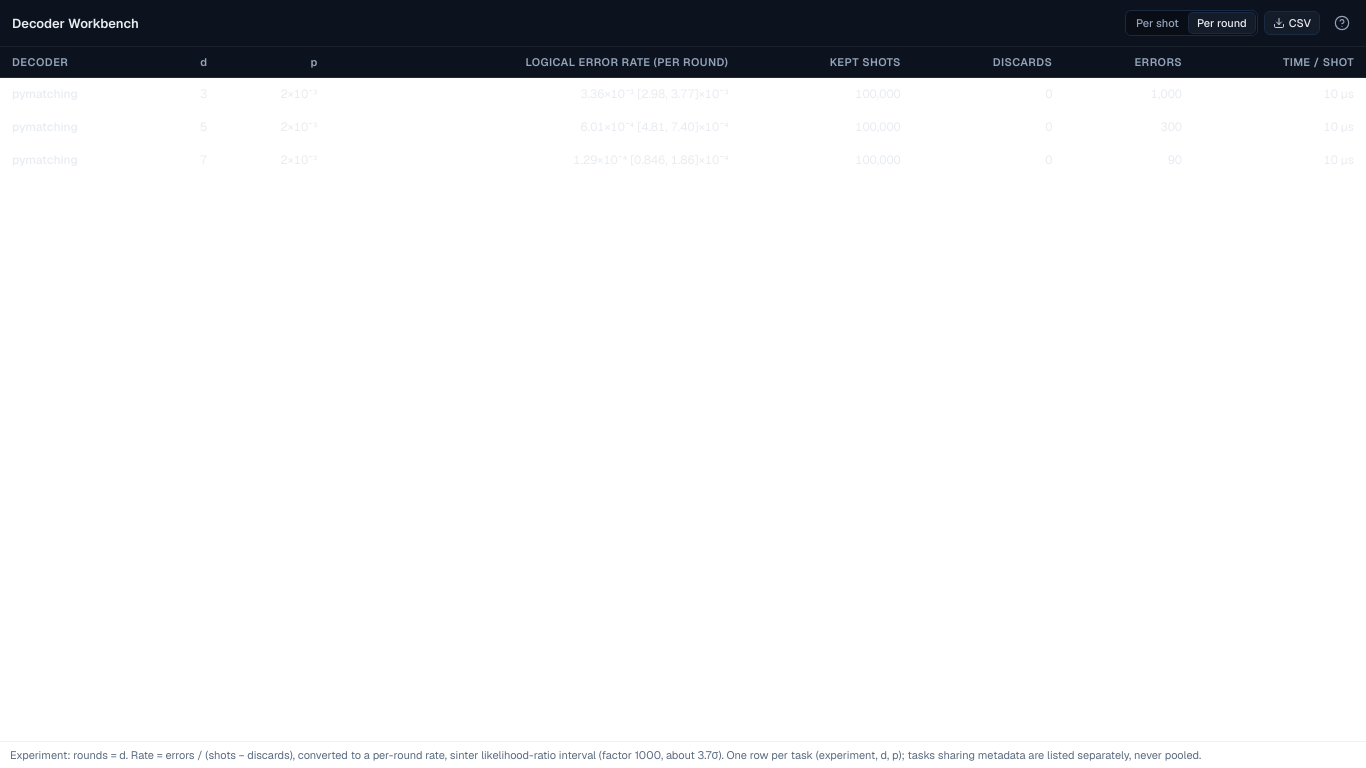
it: shared units (qec-12, qec-21) › puts the same units control in the decoder table header so the Decoders tab can switch too (qec-r-34)
This screenshot has width=1366, height=768.
Click the radio button labelled "Per shot". click: coordinates (1157, 23)
box: left=1128, top=13, right=1187, bottom=33
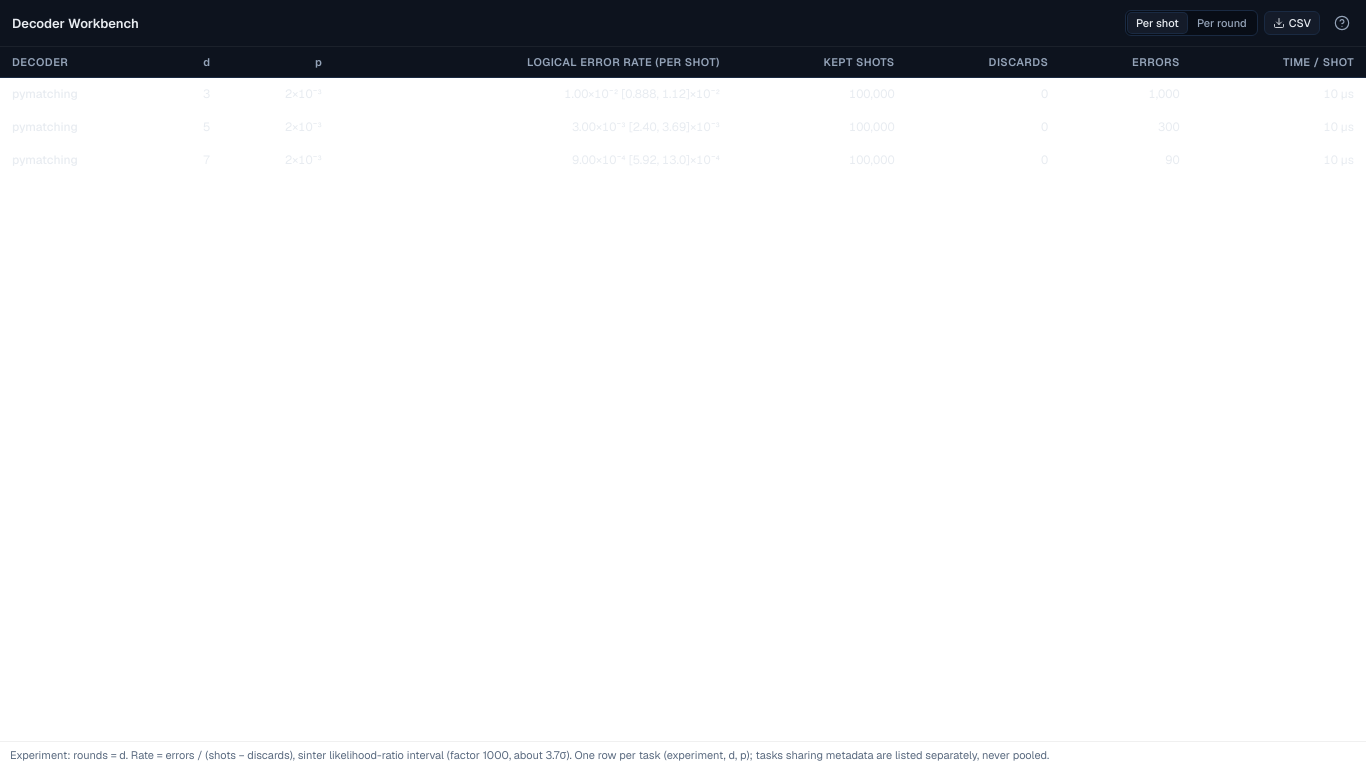
Check: the text "Logical error rate (per shot)" is shown, box left=334, top=47, right=732, bottom=78
